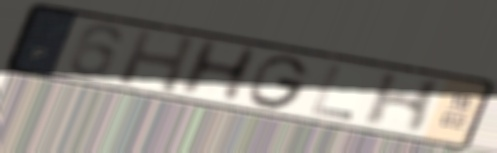6: (66, 23, 124, 78)
G: (246, 53, 314, 111)
H: (115, 26, 200, 97), (173, 37, 264, 103), (358, 70, 448, 136)
L: (307, 62, 356, 123)
